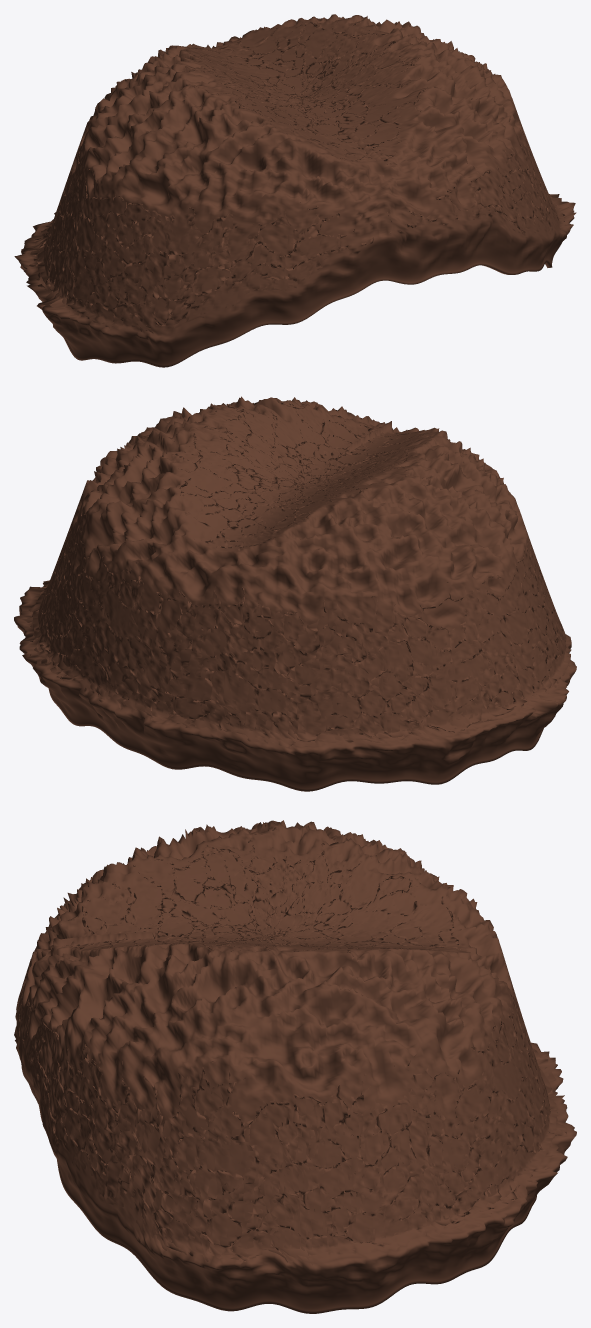
Rendered from Masculine-afro-cowboy252-hair.glb.
3 views of the same model, one above another, from view 1: azimuth 30°, elevation 25°; view 2: azimuth 150°, elevation 25°; view 3: azimuth 270°, elevation 25° (orthographic). The views are drawn at different scales.
Visible parts, largest first — view 1: 226 hair / Hair252 / dense natural coil groups.001; view 2: 226 hair / Hair252 / dense natural coil groups.001; view 3: 226 hair / Hair252 / dense natural coil groups.001.
Boxes of the visible parts, x1,y1,x2,y2 form: 226 hair / Hair252 / dense natural coil groups.001: (14,14,576,367); 226 hair / Hair252 / dense natural coil groups.001: (14,396,576,791); 226 hair / Hair252 / dense natural coil groups.001: (14,820,576,1313).
Bounding box in the file's own units: 1.09 × 0.4911 × 0.8485.
